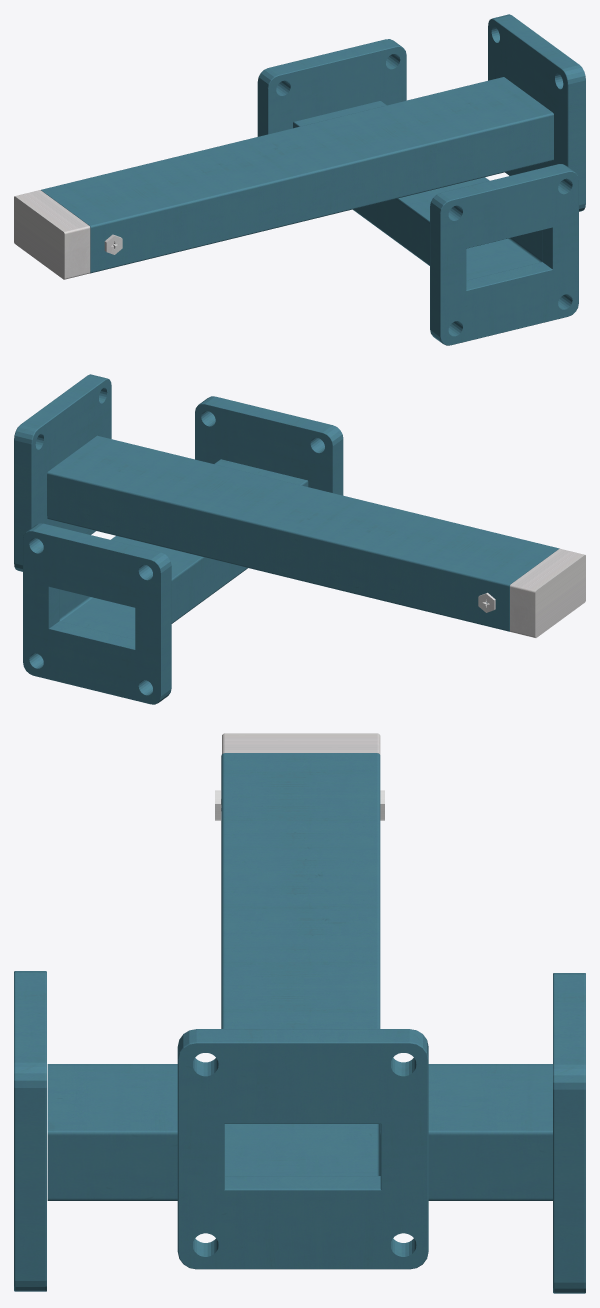
File: ding_xiang_ou_he_2.FBX
The picture shows the model from 3 angles, top to bottom: view 1: azimuth 30°, elevation 25°; view 2: azimuth 150°, elevation 25°; view 3: azimuth 270°, elevation 25°; orthographic projection. The views are drawn at different scales.
Visible parts, largest first — view 1: 对象008, 对象011, 对象009, 对象010; view 2: 对象008, 对象009, 对象011, 对象010; view 3: 对象008, 对象010, 对象009, 对象011.
Boxes of the visible parts, x1,y1,x2,y2 form: 对象008: (14, 77, 553, 280); 对象011: (430, 164, 578, 345); 对象009: (257, 39, 406, 136); 对象010: (488, 14, 585, 211); 对象008: (47, 435, 585, 639); 对象009: (23, 523, 171, 704); 对象011: (195, 396, 343, 495); 对象010: (14, 374, 111, 571); 对象008: (47, 733, 552, 1200); 对象010: (177, 1029, 428, 1269); 对象009: (553, 973, 585, 1293); 对象011: (14, 971, 46, 1291).
Bounding box in the file's own units: 1.46 × 0.5308 × 0.909.
